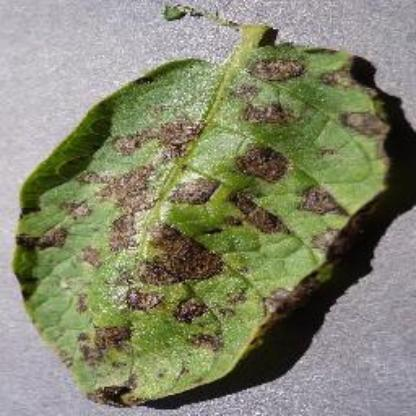Early-Blight: (10, 6, 396, 408)
